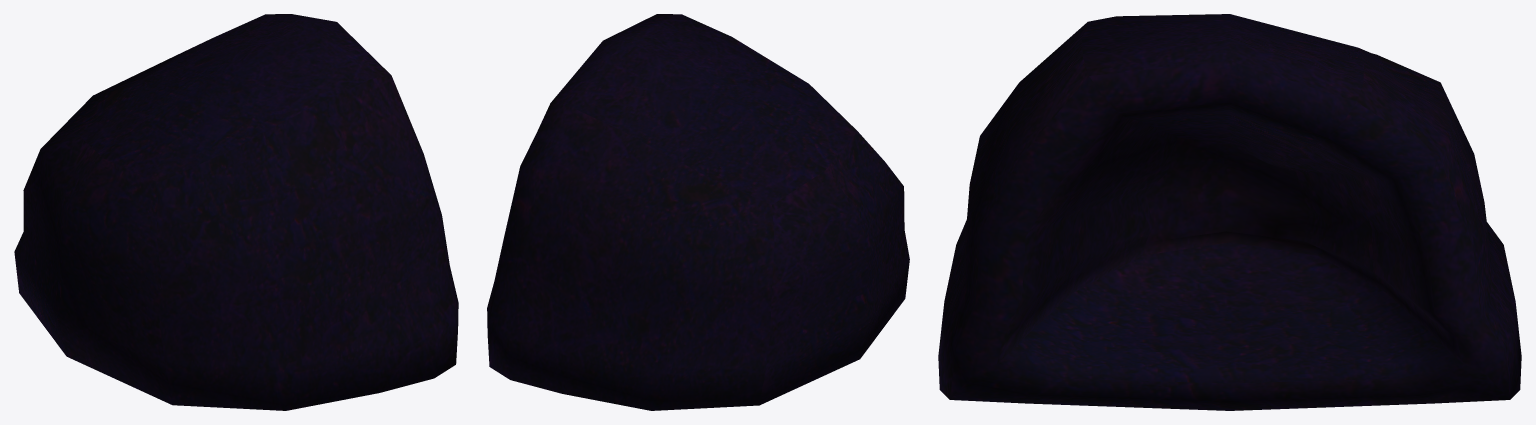
The model's file is spawner.fbx.
The picture shows the model from 3 angles, left to right: view 1: azimuth 30°, elevation 25°; view 2: azimuth 150°, elevation 25°; view 3: azimuth 270°, elevation 25°; orthographic projection. The views are drawn at different scales.
Parts seen in each view (by area): view 1: Cube; view 2: Cube; view 3: Cube.
Part boxes in pixels (x1,y1,x2,y2): Cube: (14,14,458,410); Cube: (487,14,909,410); Cube: (938,14,1521,410).
Bounding box in the file's own units: 429 × 389 × 567.
